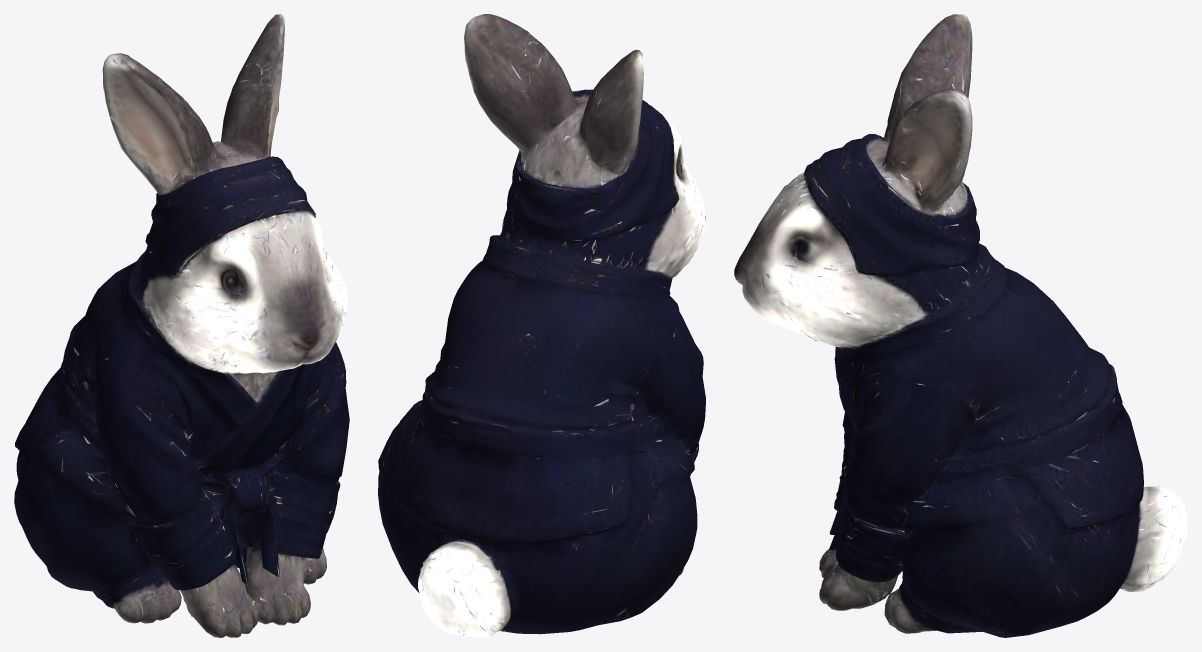
File: villager_8_lite.glb
3 renders of one model, left to right at view 1: azimuth 30°, elevation 25°; view 2: azimuth 150°, elevation 25°; view 3: azimuth 270°, elevation 25°, orthographic.
Visible parts, largest first — view 1: Mesh_0; view 2: Mesh_0; view 3: Mesh_0.
Part boxes in pixels (left/top/right/bottom): Mesh_0: left=14, top=14, right=349, bottom=637; Mesh_0: left=378, top=14, right=705, bottom=637; Mesh_0: left=734, top=14, right=1187, bottom=637.
Size of the model in its own units: 1.07 by 1.9 by 1.46.
1 material, 1 textured.
